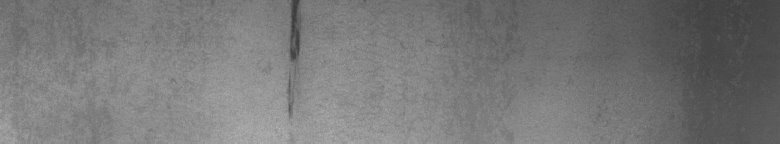hd: (285, 4, 304, 118)
